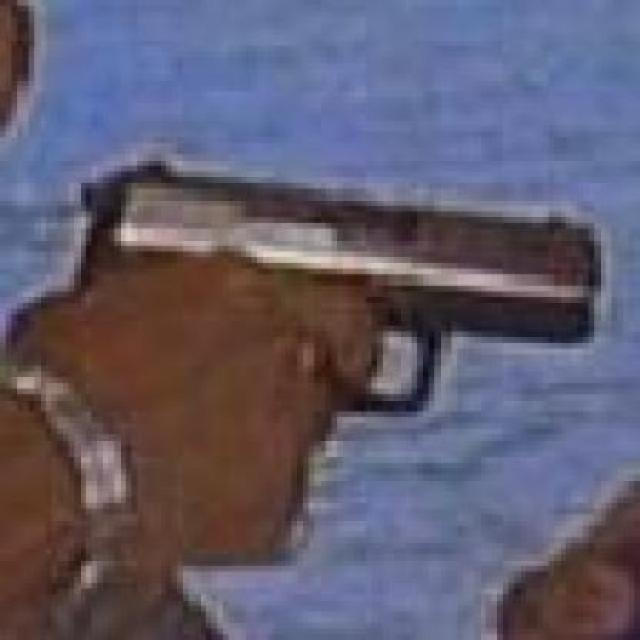rifle: (55, 157, 612, 348)
